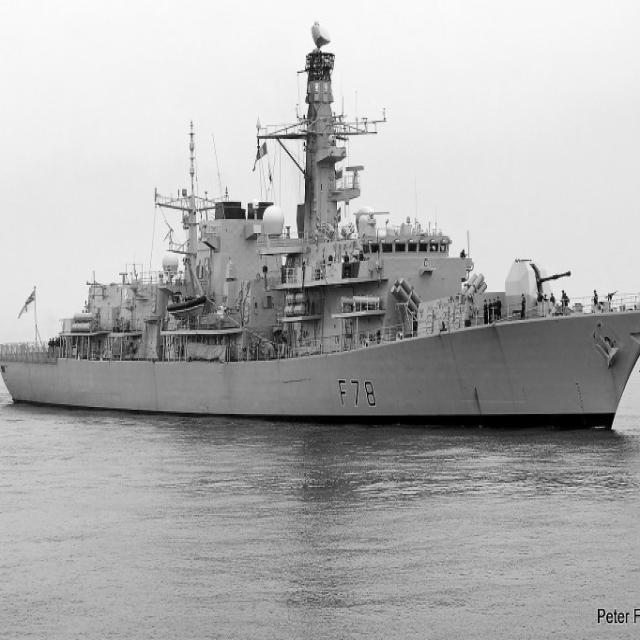Fragata: (1, 15, 640, 442)
